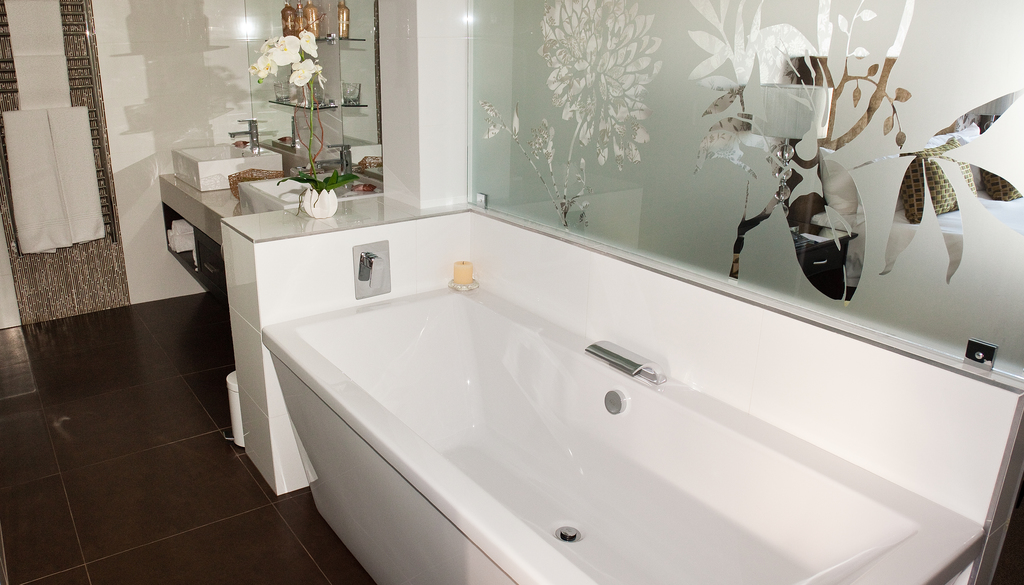tap: (225, 115, 261, 155), (360, 245, 380, 284)
